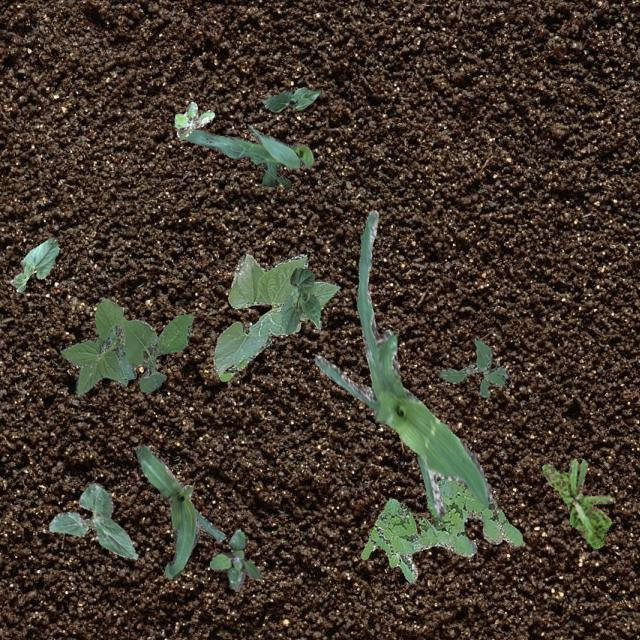crop: (312, 210, 490, 516), (212, 252, 338, 380), (136, 444, 224, 578), (182, 125, 312, 187), (48, 481, 136, 558), (280, 266, 320, 334), (10, 236, 58, 290), (262, 86, 320, 110)
weed: (359, 478, 522, 582), (59, 298, 192, 396), (540, 458, 612, 548), (437, 336, 508, 396), (208, 528, 260, 588), (174, 102, 214, 140)
